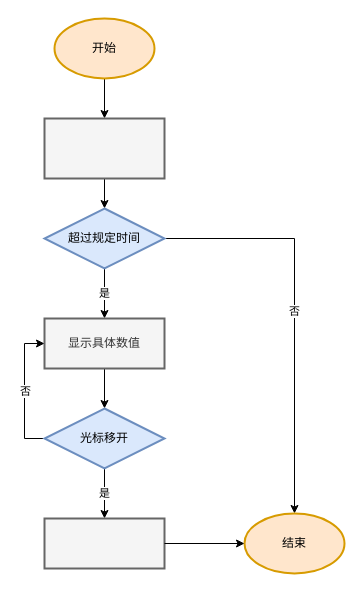
The diagram is 363 pixels wide and 591 high, and some of its shapes have lost their labels. The shapes that lost their labels are listed below. From the top down, each one's centre as x and y in pixels, then its label:
At (104,148): "光标悬浮于Up主上".
At (104,543): "数值消失".
